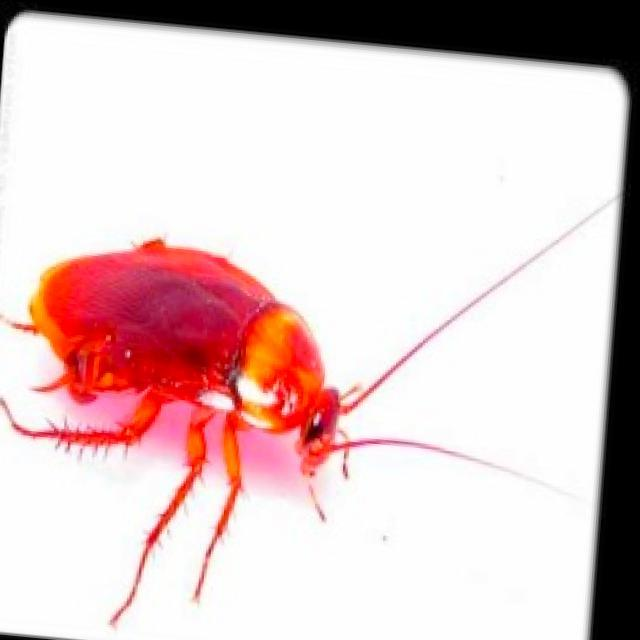cockroach: (12, 224, 504, 585)
